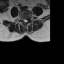CCS_normal: (24, 18, 26, 24)
LFS_severe_stenosis: (27, 17, 29, 20)
LLS_normal: (26, 18, 27, 22)
RFS_severe_stenosis: (21, 17, 23, 21)
RLS_normal: (23, 18, 24, 22)
